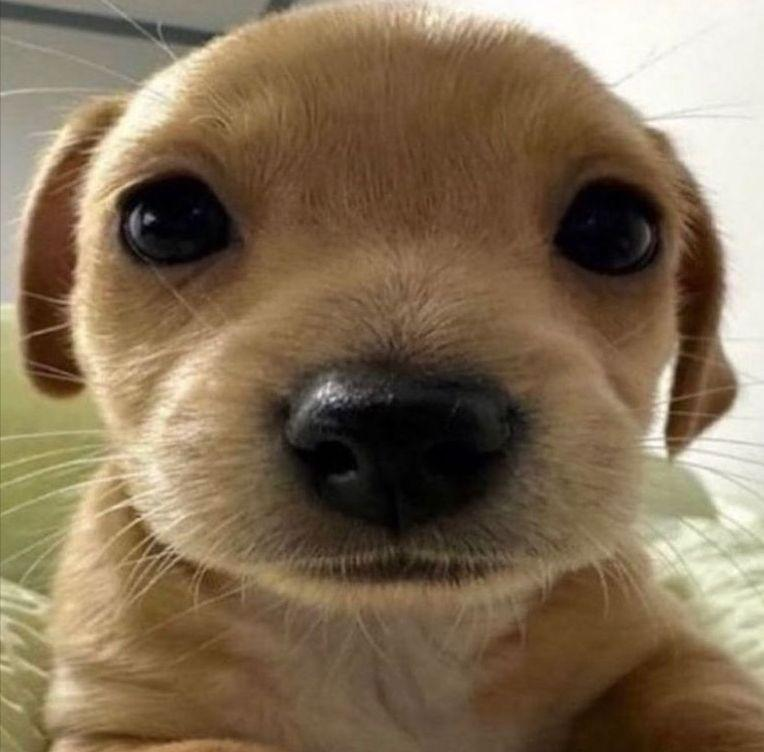puppy-dog: (10, 1, 764, 752)
